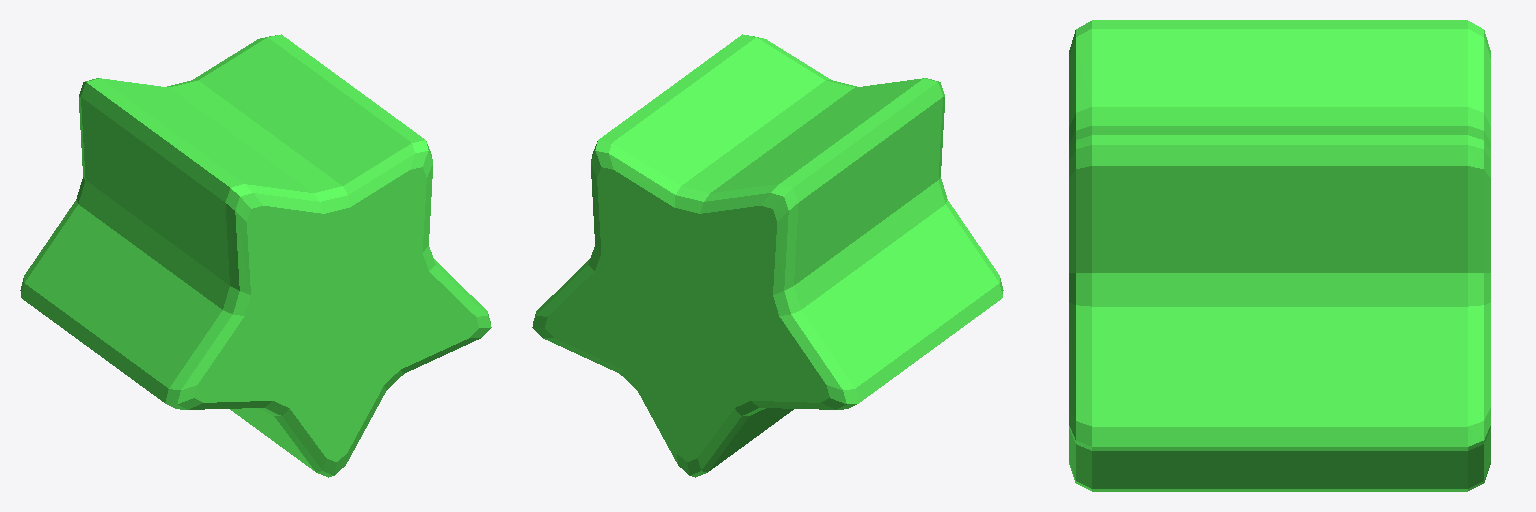
URDF robot description (green_star.urdf):
<?xml version="1.0" ?>
<robot name="green_star.urdf">
  <link name="baseLink">
    <contact>
      <lateral_friction value="0.5"/>
      <rolling_friction value="0.0001"/>
      <inertia_scaling value="1.0"/>
    </contact>
    <inertial>
      <origin rpy="0 0 0" xyz="0 0 0"/>
       <mass value=".01"/>
       <inertia ixx="1" ixy="0" ixz="0" iyy="1" iyz="0" izz="1"/>
    </inertial>
    <visual>
      <origin rpy="0 0 0" xyz="0 0 0"/>
      <geometry>
        <mesh filename="star.obj" scale="1.0 1.0 1.0"/>
      </geometry>
       <material name="green">
        <color rgba="0.4 1.0 0.4 1"/>
      </material>
    </visual>
    <collision>
      <origin rpy="0 0 0" xyz="0 0 0"/>
      <geometry>
        <mesh filename="star.obj" scale="1.0 1.0 1.0"/>
      </geometry>
    </collision>
  </link>
</robot>

--- Render facts (derived) ---
The picture shows the robot from 3 angles, left to right: view 1: azimuth 30°, elevation 25°; view 2: azimuth 150°, elevation 25°; view 3: azimuth 270°, elevation 25°; orthographic projection.
Model green_star.urdf with 1 links and 0 joints (none), rooted at baseLink, posed all joints at 0.
Visible links, largest first — view 1: baseLink; view 2: baseLink; view 3: baseLink.
Boxes of the visible links, x1,y1,x2,y2 form: baseLink: (20,34,491,477); baseLink: (532,34,1003,477); baseLink: (1069,20,1490,491).
Size in the robot's own frame: 0.0444 by 0.0381 by 0.0408 metres.
Meshes: 1 distinct files referenced, 1 mesh visuals loaded (1 OBJ).